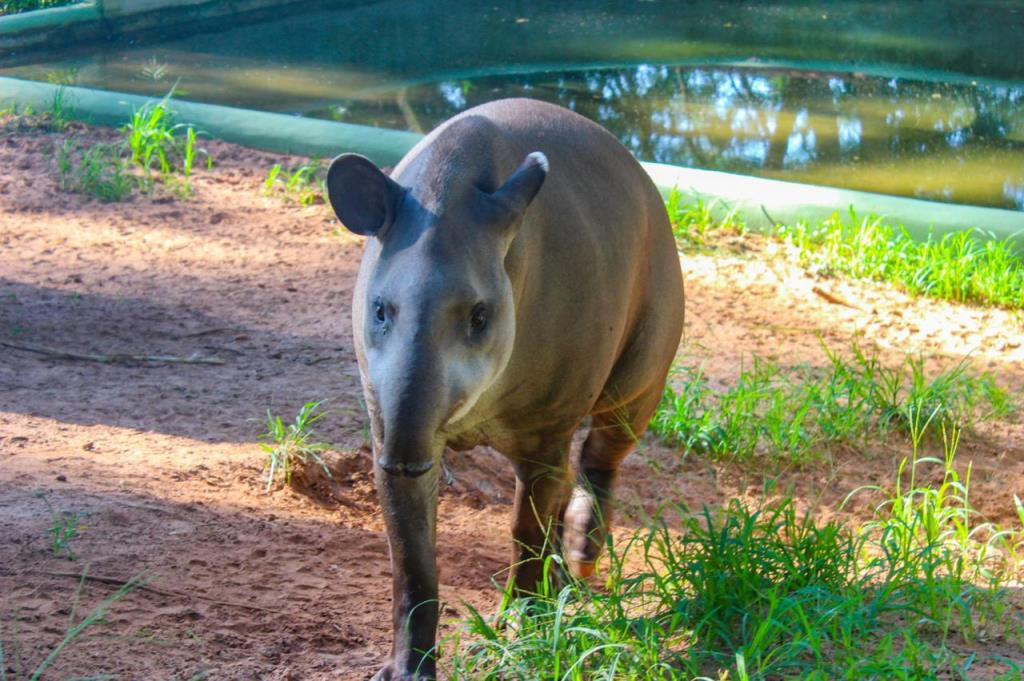Anta: (314, 86, 695, 671)
